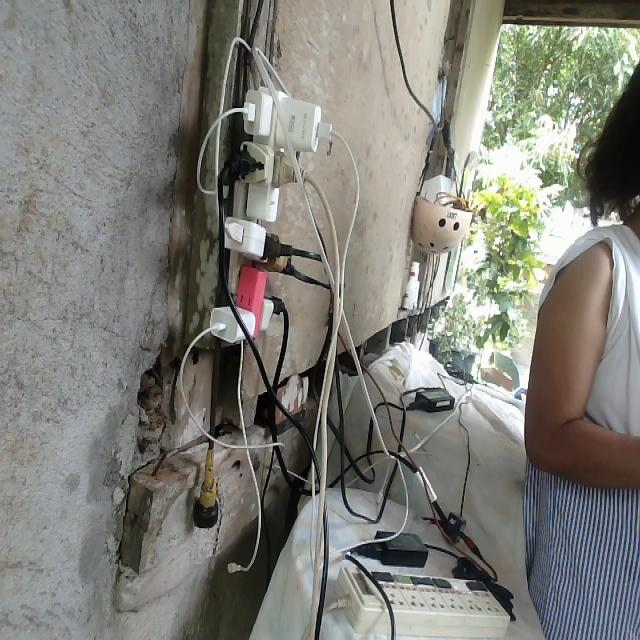-: (208, 80, 323, 343)
